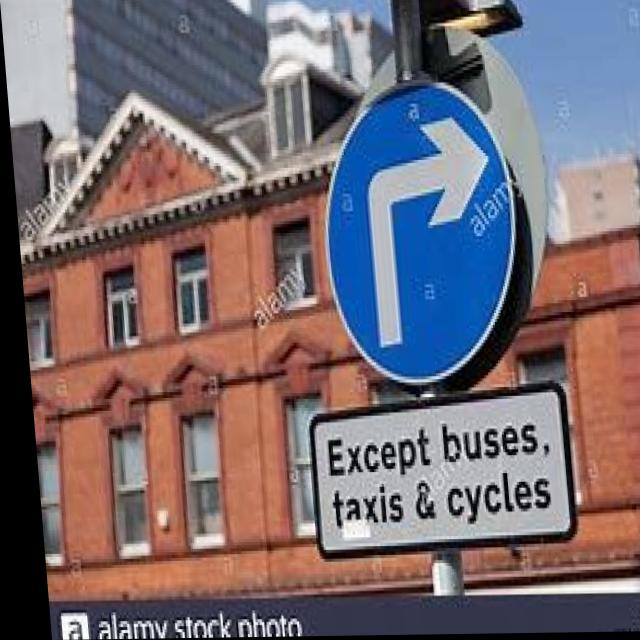COMPULSARY_TURN_RIGHT_AHEAD: (304, 80, 524, 387)
